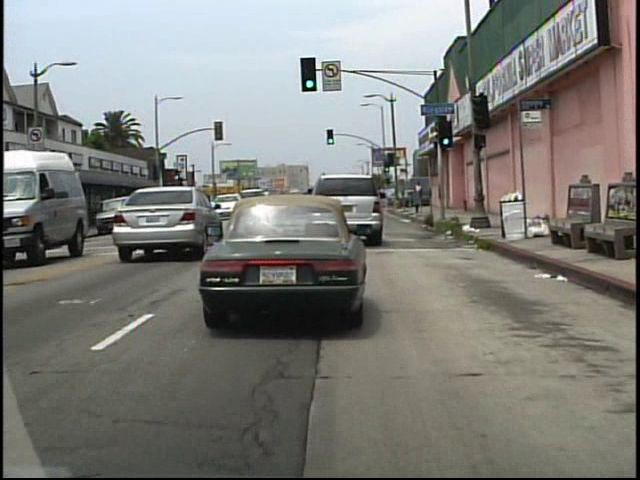person: (414, 181, 427, 209)
